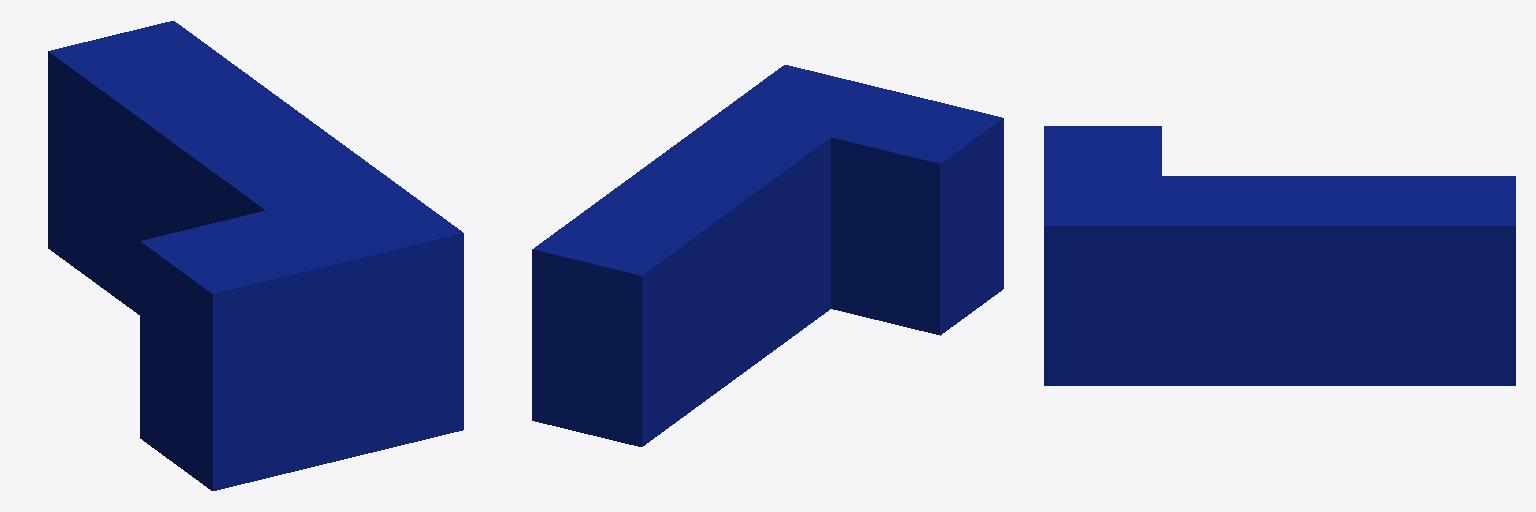
The robot description file, URDF, robot "block":
<robot name="block">
  <link name="block_base_link">

    <inertial>
      <origin rpy="0 0 0" xyz="-0.014 -0.006 0.015"/>
      <mass value="0.5"/>
      <inertia ixx="3.914e-05" ixy="5.76e-06" ixz="0.0" iyy="1.034e-05" iyz="0.0" izz="4.048e-05"/>
    </inertial>
    <collision>
      
      <geometry>
        <mesh filename="7.STL" scale="1 1 1"/>
      </geometry>
    </collision>
    <visual>
 
      <geometry>
        <mesh filename="7.STL" scale="1 1 1"/>
      </geometry>
      <material name="tray_material">
        <color rgba="0.1 0.2 0.6 1"/>
      </material>
    </visual>
  </link>
</robot>

--- Facts derived from the render (not from the file) ---
The picture shows the robot from 3 angles, left to right: view 1: azimuth 30°, elevation 25°; view 2: azimuth 150°, elevation 25°; view 3: azimuth 270°, elevation 25°; orthographic projection.
Model block with 1 links and 0 joints (none), rooted at block_base_link, posed all joints at 0.
Links seen in each view (by area): view 1: block_base_link; view 2: block_base_link; view 3: block_base_link.
Boxes of the visible links, x1,y1,x2,y2 form: block_base_link: [48, 21, 463, 490]; block_base_link: [532, 65, 1003, 446]; block_base_link: [1044, 126, 1515, 385].
Size in the robot's own frame: 0.04 by 0.08 by 0.03 metres.
Meshes: 1 distinct files referenced, 1 mesh visuals loaded (1 binary STL).